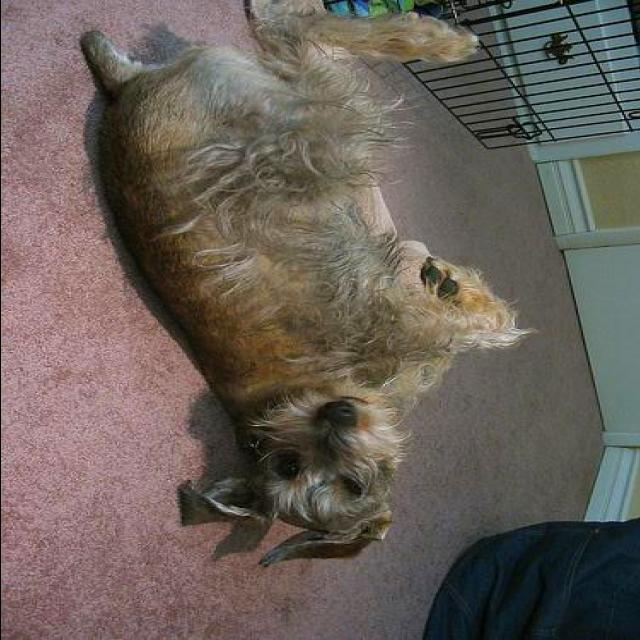standard_schnauzer: (79, 9, 541, 570)
